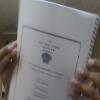notebook: (5, 0, 99, 99)
